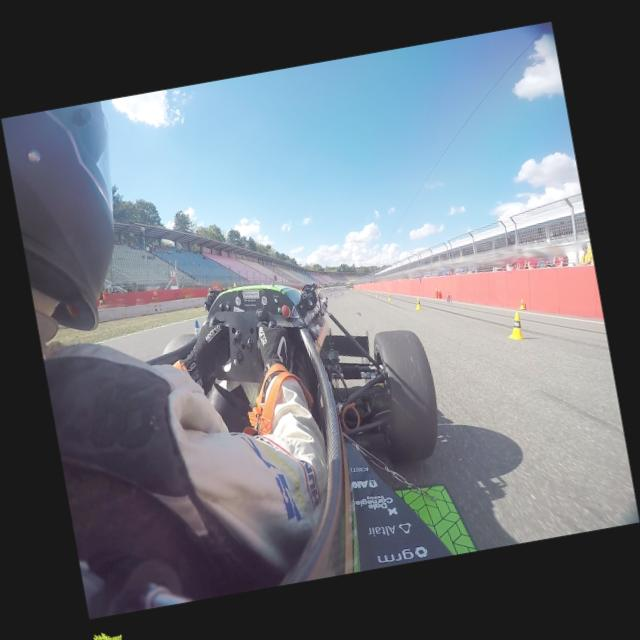blue_cone: (193, 322, 200, 334)
yellow_cone: (504, 310, 526, 342), (412, 297, 422, 310), (518, 298, 525, 310), (386, 292, 392, 300), (374, 291, 378, 296), (366, 289, 370, 294), (362, 289, 366, 293), (356, 288, 359, 292), (355, 288, 358, 291), (360, 288, 362, 292), (352, 288, 354, 291)
